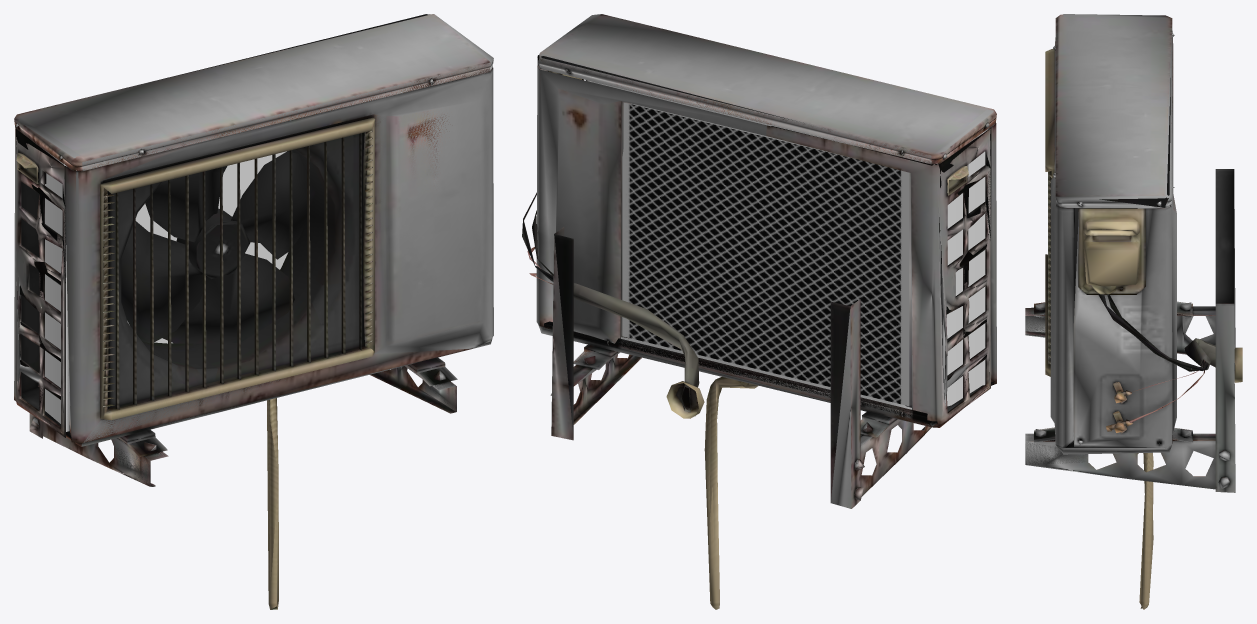
The model's file is wallgear.glb.
3 renders of one model, left to right at view 1: azimuth 30°, elevation 25°; view 2: azimuth 150°, elevation 25°; view 3: azimuth 270°, elevation 25°, orthographic. The views are drawn at different scales.
Parts seen in each view (by area): view 1: ac_r, ac; view 2: ac_r, ac; view 3: ac, ac_r.
Part boxes in pixels (box(x1,y1,x2,y2)): ac_r: box(14, 14, 492, 609); ac: box(15, 14, 493, 609); ac_r: box(523, 14, 996, 609); ac: box(522, 14, 994, 609); ac: box(1025, 14, 1242, 608); ac_r: box(1025, 14, 1242, 609).
Size of the model in its own units: 0.7994 by 0.9276 by 0.3742.
Materials: 4 (4 with a texture image).
